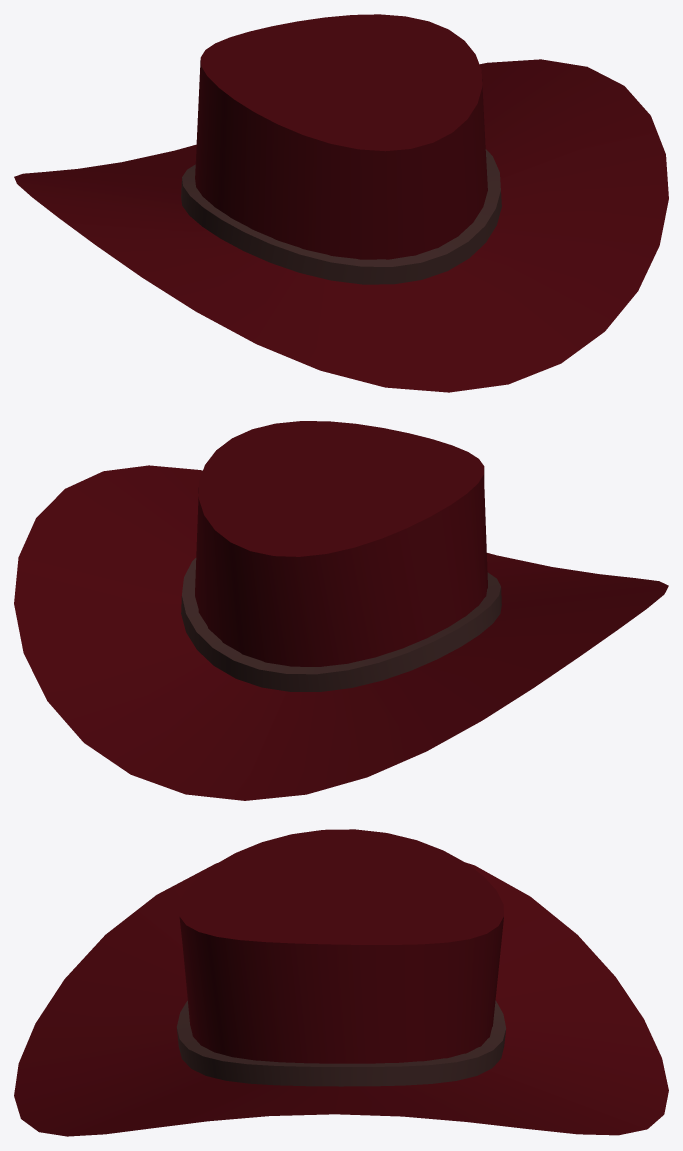
The model's file is cowboy_hat.glb.
The picture shows the model from 3 angles, top to bottom: view 1: azimuth 30°, elevation 25°; view 2: azimuth 150°, elevation 25°; view 3: azimuth 270°, elevation 25°; orthographic projection.
Visible parts, largest first — view 1: Circle; view 2: Circle; view 3: Circle.
Part boxes in pixels (x1,y1,x2,y2): Circle: (14, 14, 668, 392); Circle: (14, 421, 668, 800); Circle: (14, 829, 668, 1136).
Bounding box in the file's own units: 1.96 × 0.6818 × 1.96.
